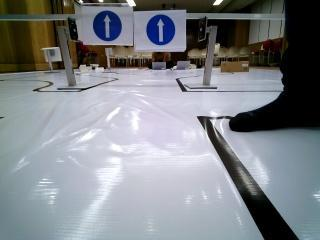straight: (75, 3, 133, 45), (131, 13, 185, 49)
